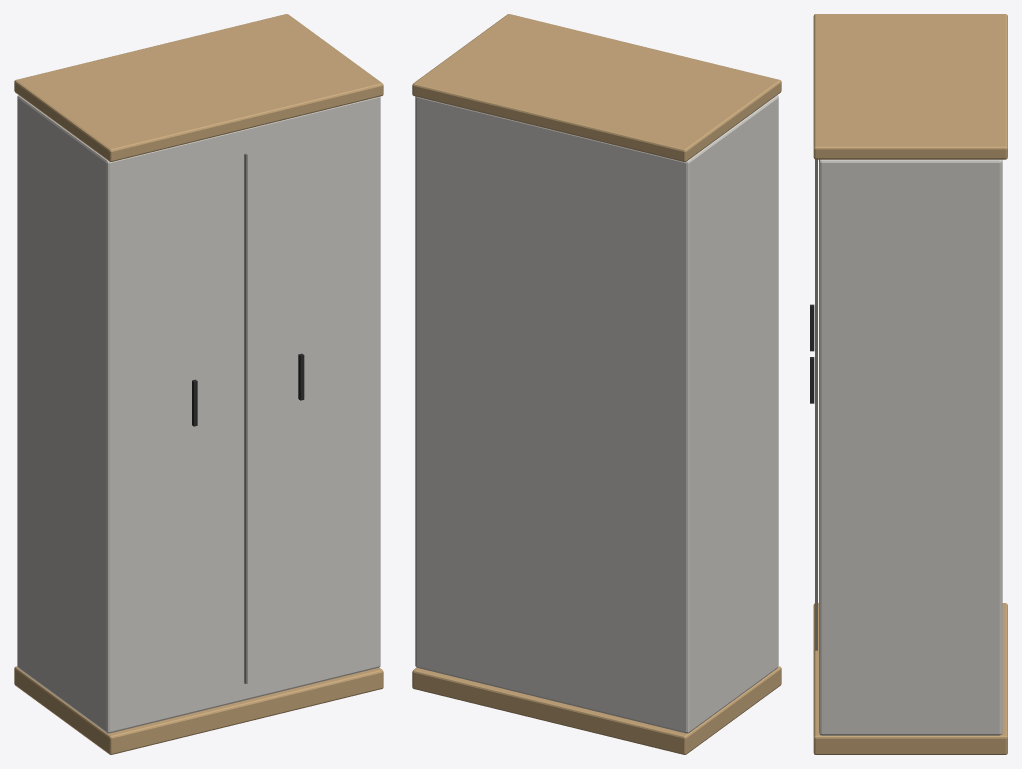
Rendered from wardrobeSmall.glb.
The picture shows the model from 3 angles, left to right: view 1: azimuth 30°, elevation 25°; view 2: azimuth 150°, elevation 25°; view 3: azimuth 270°, elevation 25°; orthographic projection.
Visible parts, largest first — view 1: body.003, top.003, plinth.001, seam1.001; view 2: body.003, top.003, plinth.001; view 3: body.003, top.003, plinth.001, seam1.001.
Part boxes in pixels (x1=…): body.003: x1=17, y1=95, x2=380, y2=733; top.003: x1=14, y1=14, x2=383, y2=161; plinth.001: x1=14, y1=666, x2=383, y2=754; seam1.001: x1=244, y1=153, x2=247, y2=683; body.003: x1=415, y1=95, x2=778, y2=733; top.003: x1=412, y1=14, x2=781, y2=161; plinth.001: x1=412, y1=666, x2=781, y2=754; body.003: x1=819, y1=159, x2=1002, y2=735; top.003: x1=813, y1=14, x2=1007, y2=159; plinth.001: x1=813, y1=603, x2=1007, y2=754; seam1.001: x1=815, y1=159, x2=817, y2=650.
Bounding box in the file's own units: 0.9 × 1.9 × 0.56.
